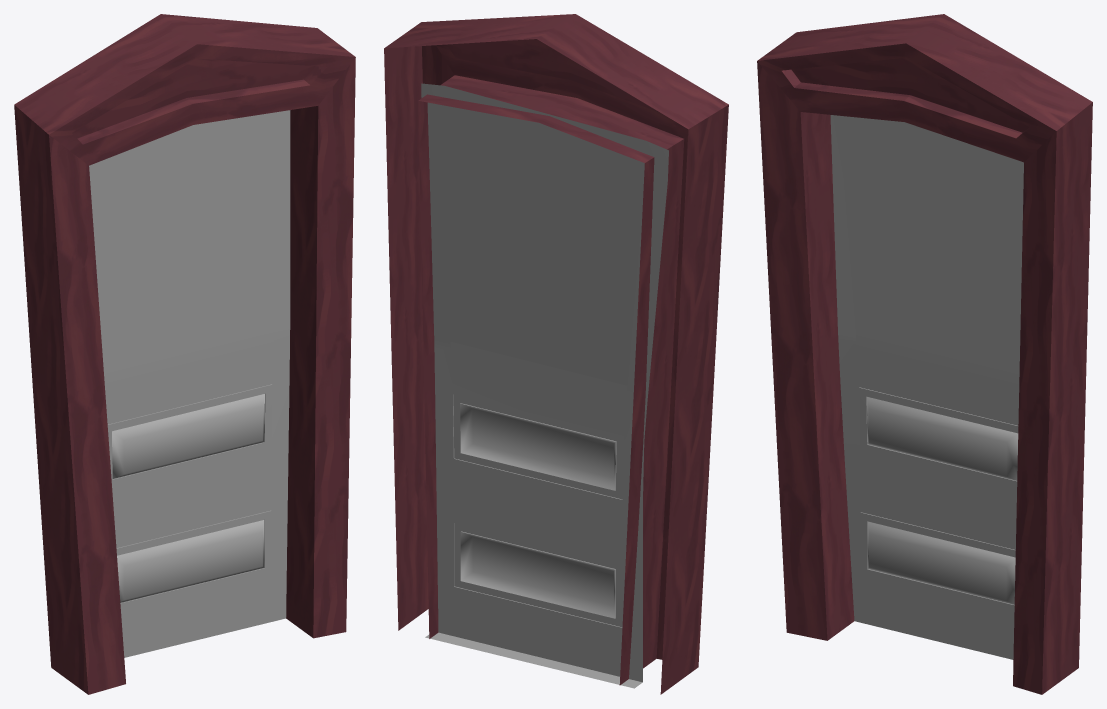
Rendered from porte2.fbx.
The picture shows the model from 3 angles, left to right: view 1: azimuth 30°, elevation 25°; view 2: azimuth 150°, elevation 25°; view 3: azimuth 330°, elevation 25°; orthographic projection. The views are drawn at different scales.
Parts seen in each view (by area): view 1: fond_porte_5; view 2: fond_porte_5; view 3: fond_porte_5.
Boxes of the visible parts, x1,y1,x2,y2 form: fond_porte_5: (14,14,355,694); fond_porte_5: (384,14,728,694); fond_porte_5: (757,14,1092,694).
Size of the model in its own units: 4.44 by 8.64 by 1.1.
